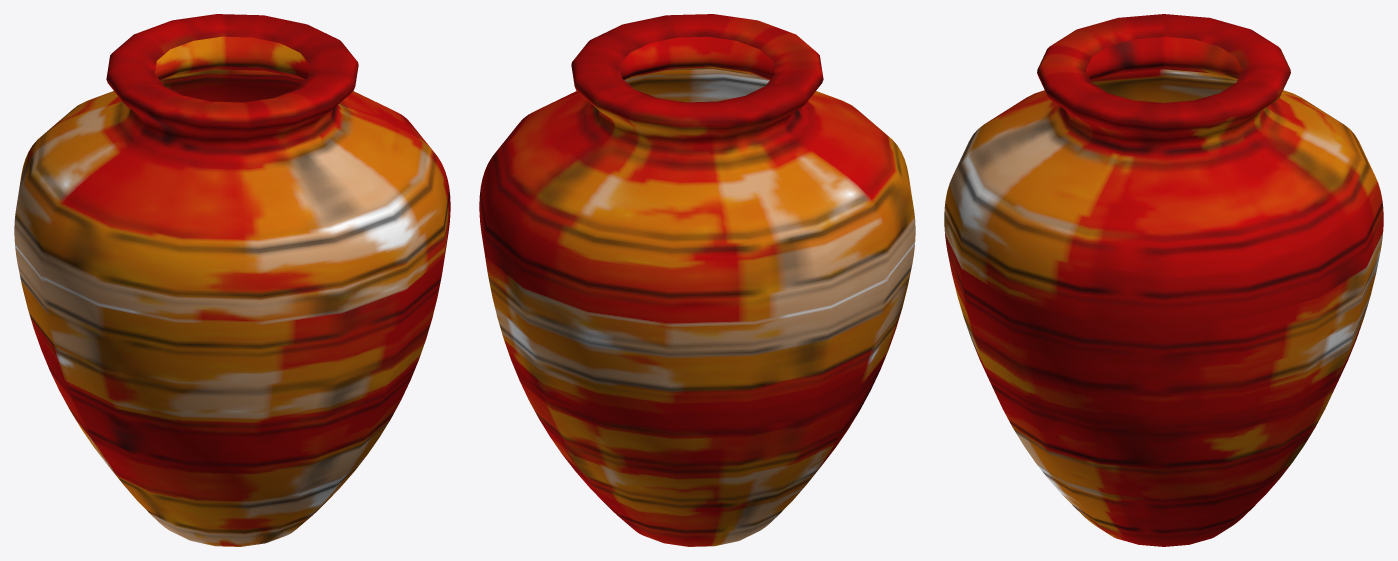
Rendered from pot.obj.
3 renders of one model, left to right at view 1: azimuth 30°, elevation 25°; view 2: azimuth 150°, elevation 25°; view 3: azimuth 270°, elevation 25°, orthographic.
Parts seen in each view (by area): view 1: ベジエカーブ; view 2: ベジエカーブ; view 3: ベジエカーブ.
Boxes of the visible parts, x1,y1,x2,y2 form: ベジエカーブ: (14,14,450,546); ベジエカーブ: (479,14,915,546); ベジエカーブ: (944,14,1383,546).
Bounding box in the file's own units: 1.39 × 1.6 × 1.39.
